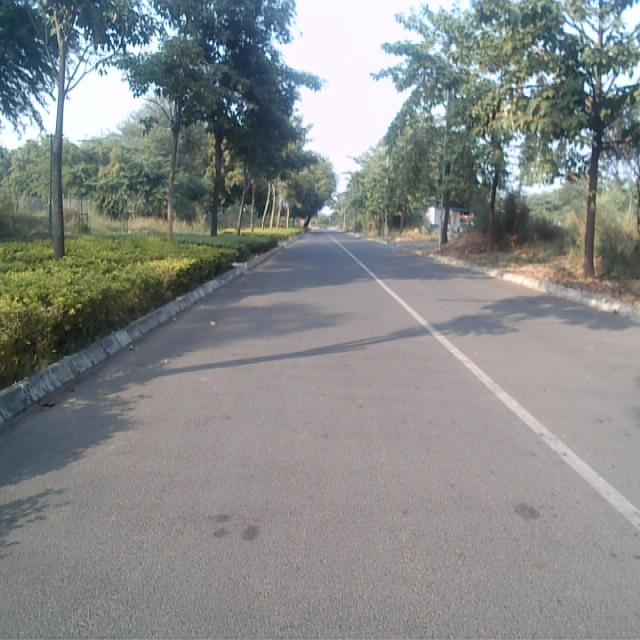lane: (0, 235, 640, 640)
